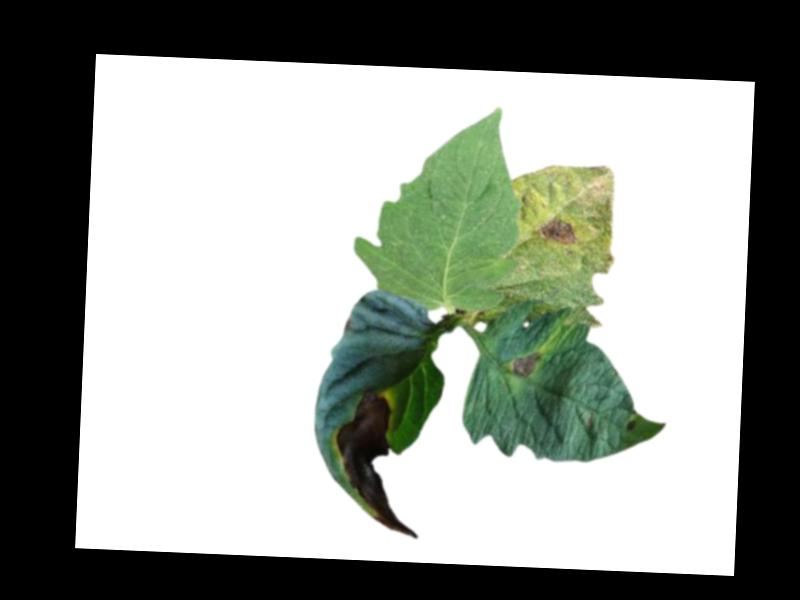Early_blight: (330, 385, 425, 538), (536, 217, 577, 248), (509, 348, 542, 378), (622, 417, 635, 431)
